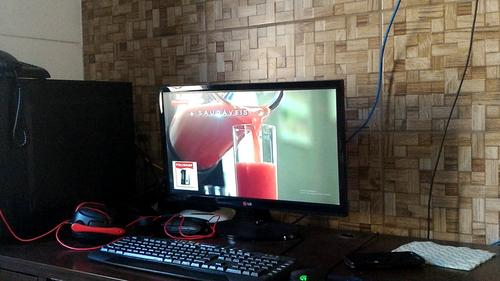Polishop #1: (172, 159, 198, 190)
